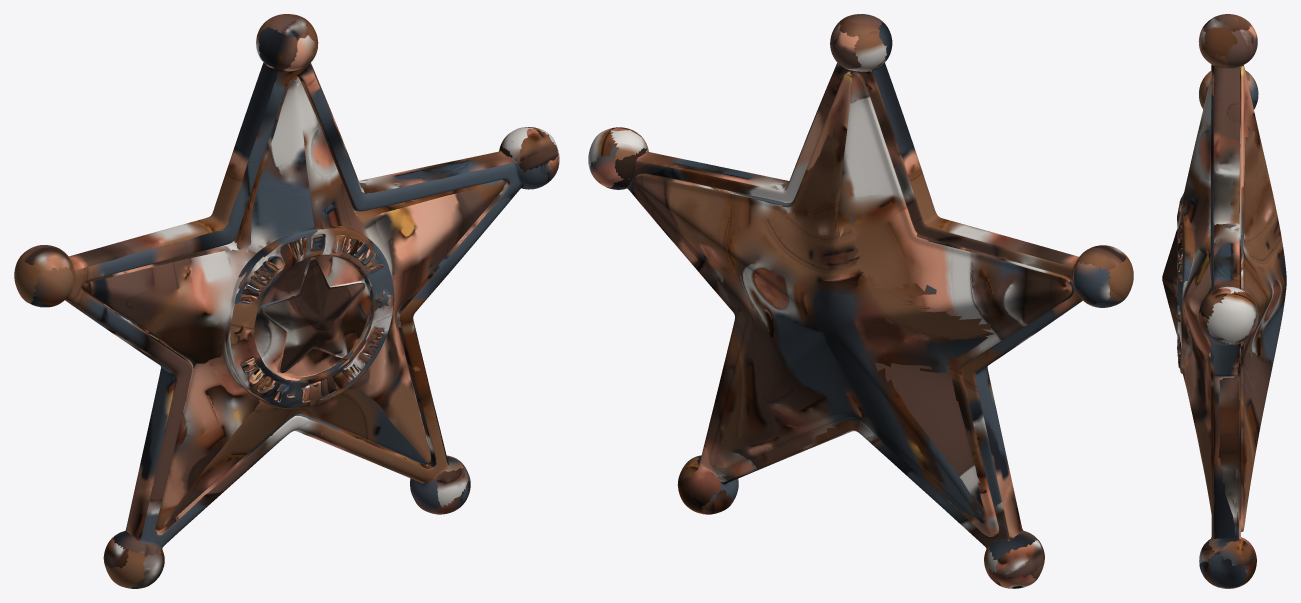
The model's file is Star.fbx.
3 views of the same model, side by side, from view 1: azimuth 30°, elevation 25°; view 2: azimuth 150°, elevation 25°; view 3: azimuth 270°, elevation 25° (orthographic). The views are drawn at different scales.
Visible parts, largest first — view 1: node_0; view 2: node_0; view 3: node_0.
Part boxes in pixels (x1=…): node_0: x1=14, y1=14, x2=559, y2=588; node_0: x1=588, y1=14, x2=1133, y2=588; node_0: x1=1162, y1=14, x2=1286, y2=588.
Size of the model in its own units: 107 by 101 by 22.89.
